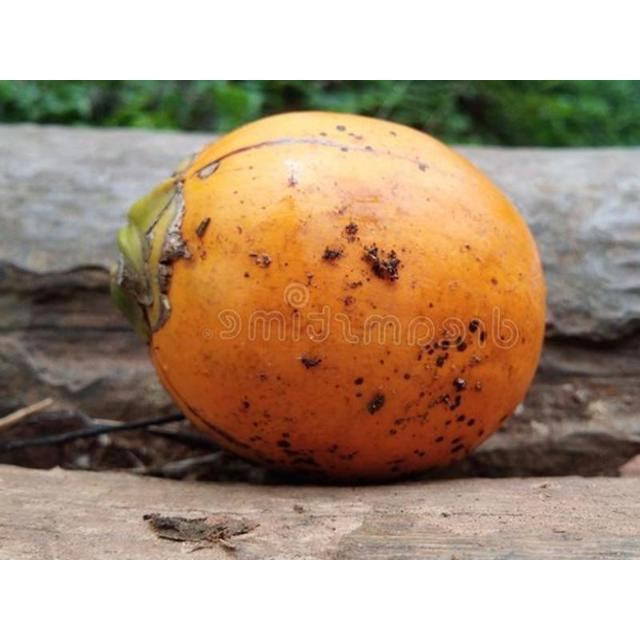good: (111, 111, 548, 487)
